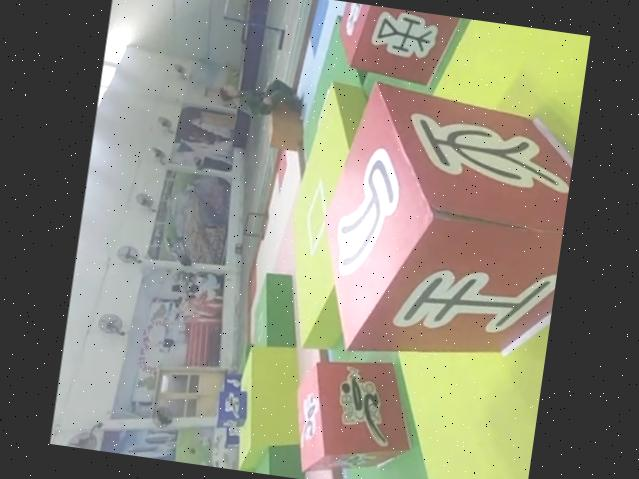R1: (281, 347, 427, 479)
R2 Fake: (304, 75, 580, 384)
R2 Real: (333, 1, 476, 94)
